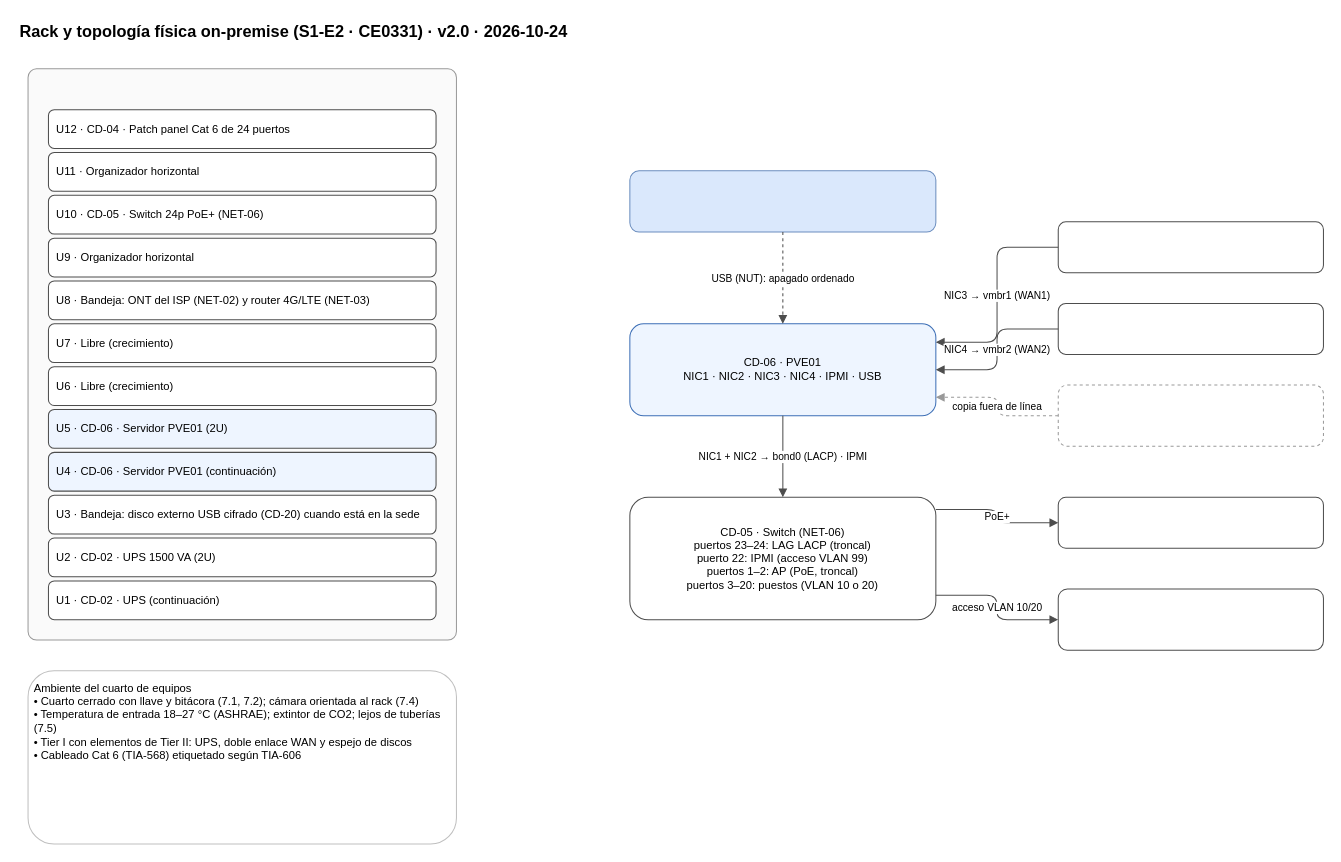
Some shapes in this 1341 by 862 pixel diagram are drawn without their labels. Here are the shapes that lost their labels. From the top down, the box of each, then its label:
(629, 170, 936, 232): CD-02 · UPS 1500 VA + NUT
(1057, 221, 1323, 273): NET-02 · ONT del ISP (WAN1)
(1057, 302, 1323, 354): NET-03 · Router 4G/LTE (WAN2)
(27, 68, 456, 640): CD-01 · Rack 12U con puerta y cerradura · PDU trasera (CD-03)
(1057, 384, 1323, 446): CD-20 · Disco externo USB cifrado rotación mensual fuera de la sede
(1057, 496, 1323, 548): NET-07 / NET-08 · AP Wi-Fi 6
(1057, 588, 1323, 650): CD-04 · Patch panel → puestos de trabajo (ADMIN y ACAD)
